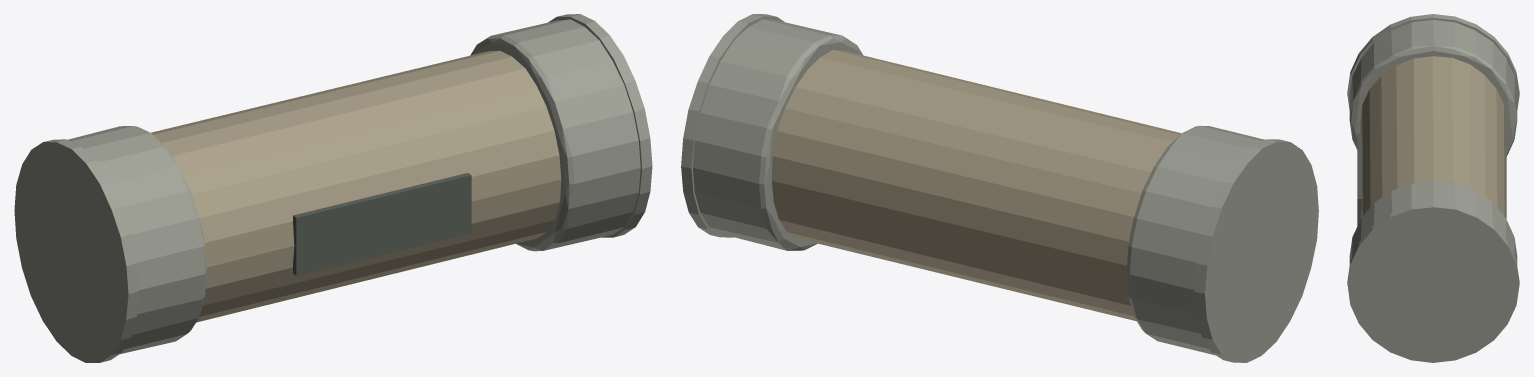
The model's file is fuse_low.glb.
3 views of the same model, side by side, from view 1: azimuth 30°, elevation 25°; view 2: azimuth 150°, elevation 25°; view 3: azimuth 270°, elevation 25° (orthographic). The views are drawn at different scales.
Visible parts, largest first — view 1: fuse.001; view 2: fuse.001; view 3: fuse.001.
Boxes of the visible parts, x1,y1,x2,y2 form: fuse.001: [14, 14, 652, 362]; fuse.001: [681, 14, 1318, 362]; fuse.001: [1347, 14, 1519, 362].
Size of the model in its own units: 0.1798 by 0.0677 by 0.0677.
